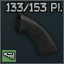MP-133%5153 plastic pistol grip: (0, 0, 64, 64)
